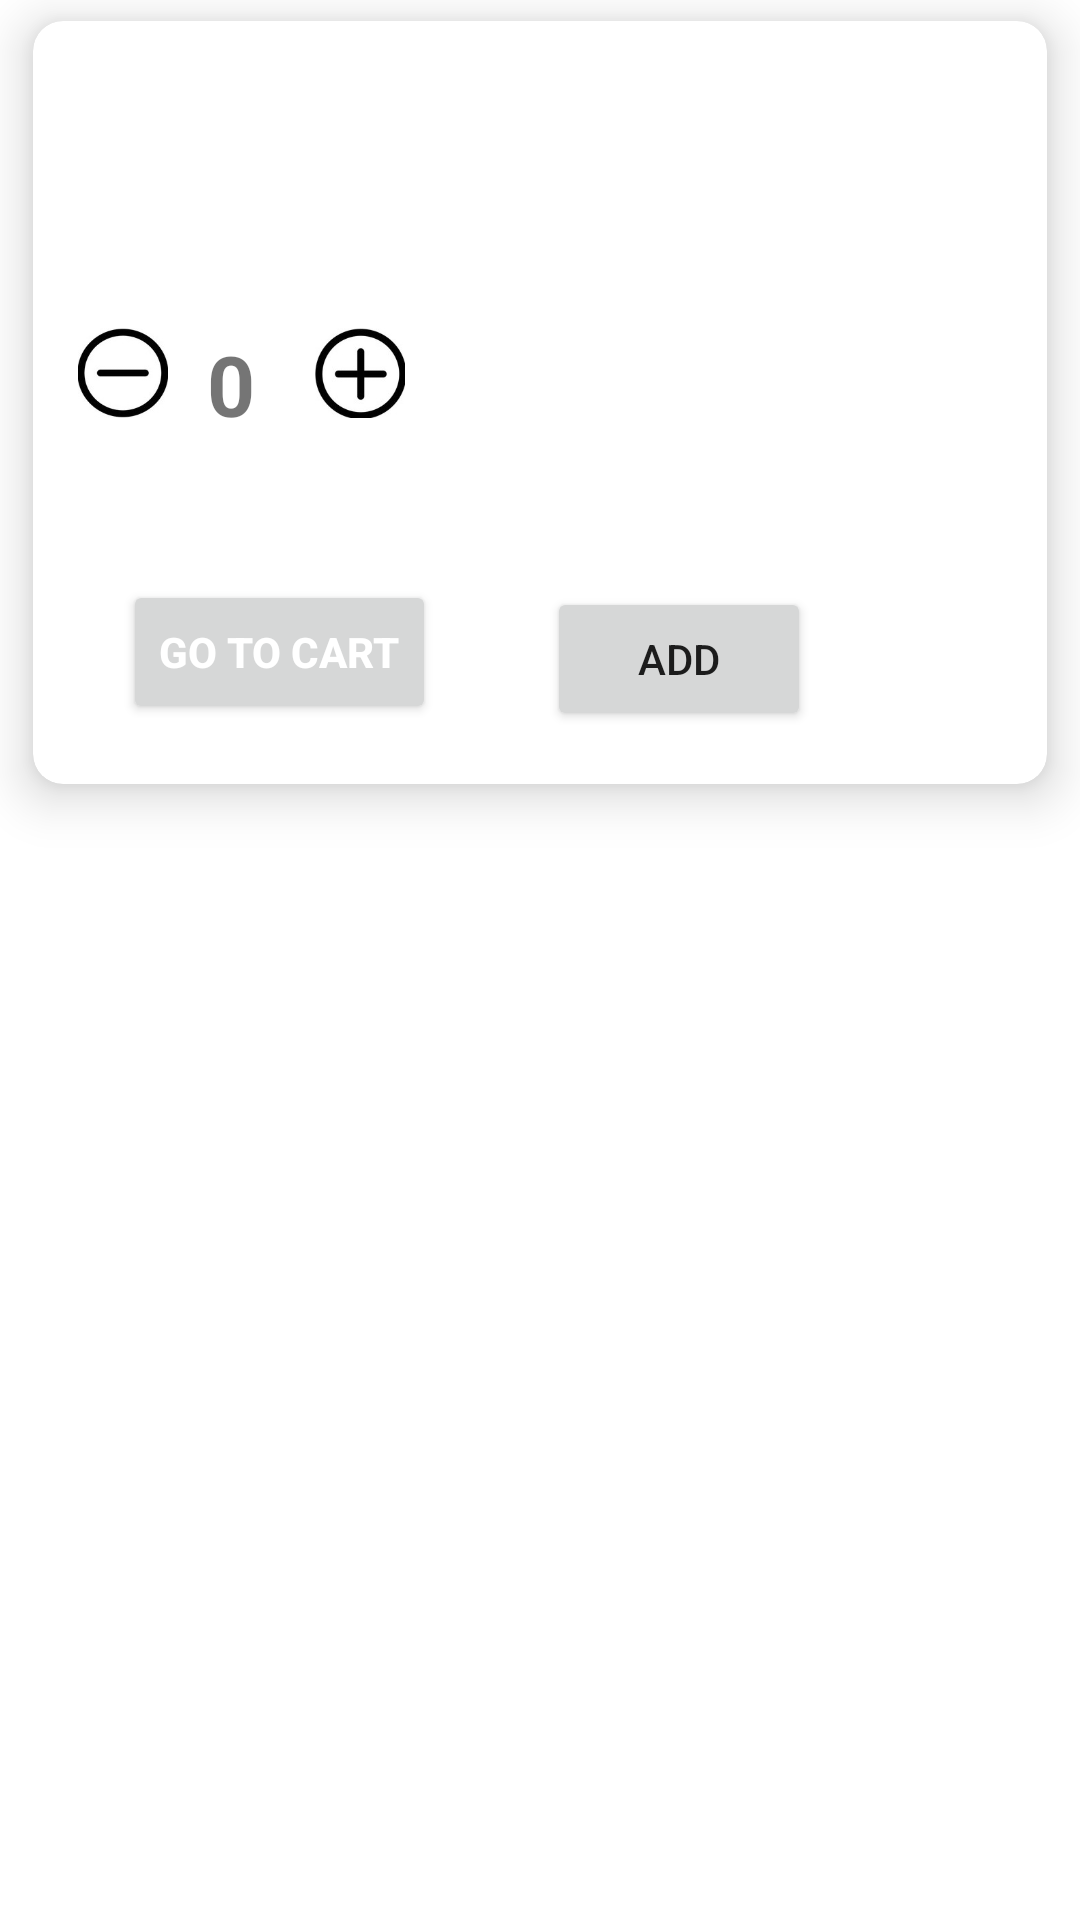

Icons on this 1080*1920 Android screen, each with its box as (x1=x1, y1=y1, x2=x2, y2=y2):
minussign: (x1=78, y1=328, x2=168, y2=418)
plussign: (x1=315, y1=328, x2=405, y2=418)
